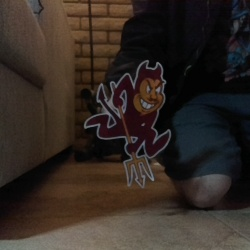sparky: (83, 59, 171, 187)
